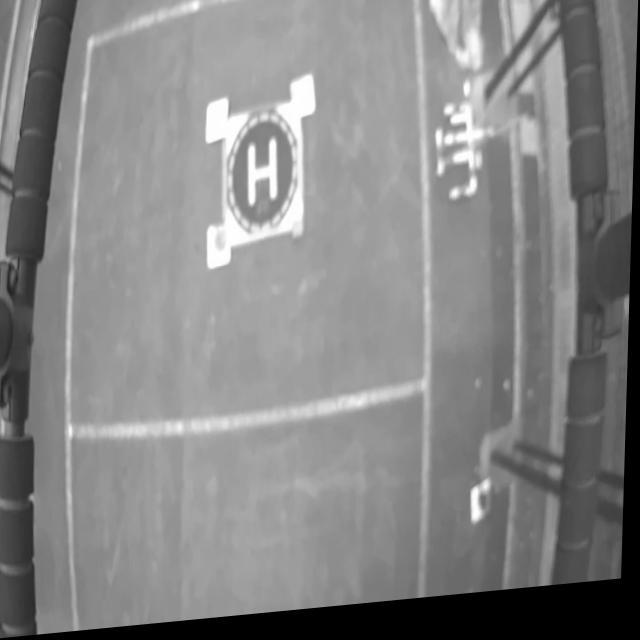Helipad: (249, 143, 278, 212)
